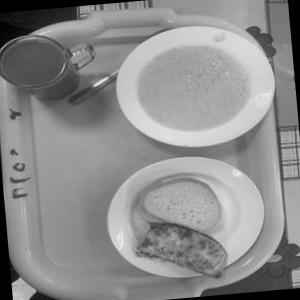bread: (131, 167, 225, 244)
cheese_sandwich: (127, 210, 232, 287)
coffee: (0, 27, 93, 108)
porridge: (130, 27, 259, 143)
